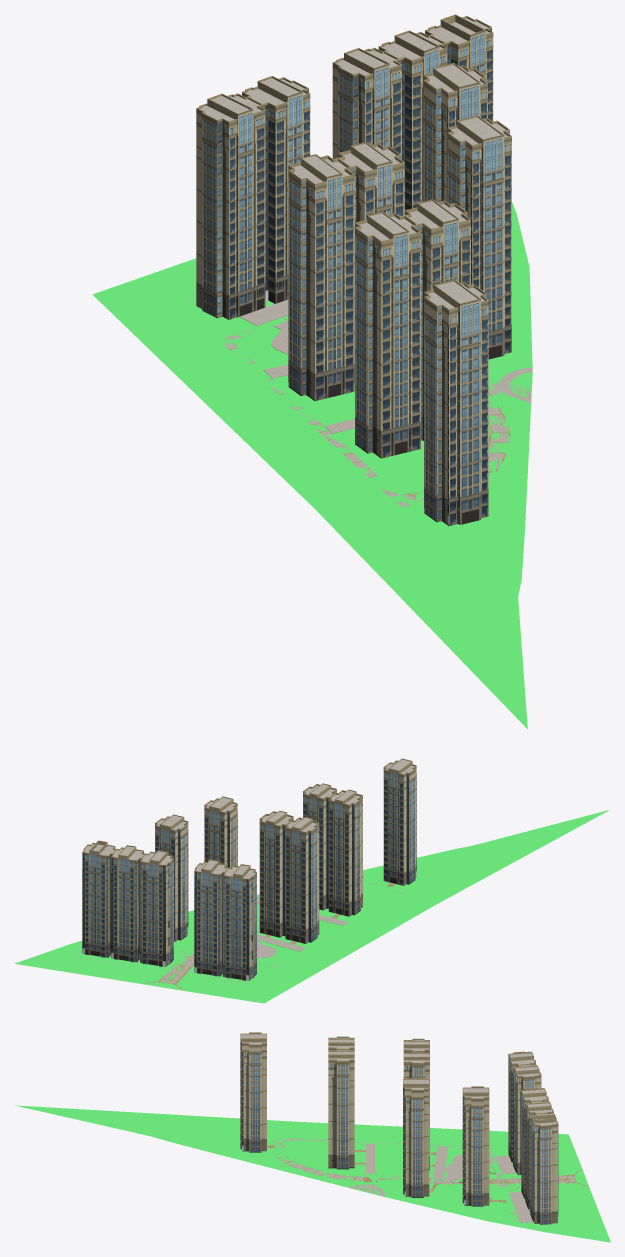
File: rencaigongyu.FBX
3 renders of one model, top to bottom at view 1: azimuth 30°, elevation 25°; view 2: azimuth 150°, elevation 25°; view 3: azimuth 270°, elevation 25°, orthographic. The views are drawn at different scales.
Visible parts, largest first — view 1: Model001_003, Line019, Line058, Line055, Line006, Line054, Line011, Line060, Line012, Line059, Line057, Line056 (+1 smaller); view 2: Model001_003, Line019, Line058, Line055, Line060, Line006, Line056, Line011, Line061, Line059, Line012, Line054 (+1 smaller); view 3: Model001_003, Line012, Line057, Line054, Line055, Line061, Line011, Line059, Line006, Line056, Line060, Line019 (+1 smaller).
Part boxes in pixels (left/top/right/bottom): Model001_003: left=92, top=202, right=532, bottom=729; Line019: left=288, top=154, right=354, bottom=400; Line058: left=355, top=211, right=420, bottom=458; Line055: left=424, top=279, right=488, bottom=525; Line006: left=196, top=93, right=265, bottom=319; Line054: left=447, top=115, right=511, bottom=359; Line011: left=242, top=76, right=310, bottom=303; Line060: left=332, top=47, right=401, bottom=160; Line012: left=423, top=63, right=487, bottom=202; Line059: left=378, top=30, right=447, bottom=214; Line057: left=405, top=199, right=470, bottom=440; Line056: left=338, top=142, right=404, bottom=382; Model001_003: left=14, top=810, right=609, bottom=1003; Line019: left=285, top=817, right=319, bottom=943; Line058: left=328, top=789, right=362, bottom=916; Line055: left=383, top=758, right=416, bottom=885; Line060: left=140, top=850, right=173, bottom=966; Line006: left=223, top=864, right=256, bottom=980; Line056: left=259, top=810, right=293, bottom=937; Line011: left=194, top=859, right=227, bottom=976; Line061: left=82, top=840, right=115, bottom=957; Line059: left=111, top=845, right=144, bottom=962; Line012: left=155, top=814, right=188, bottom=941; Line054: left=204, top=796, right=237, bottom=867; Model001_003: left=15, top=1105, right=610, bottom=1242; Line012: left=462, top=1086, right=489, bottom=1206; Line057: left=328, top=1048, right=354, bottom=1169; Line054: left=403, top=1077, right=429, bottom=1197; Line055: left=240, top=1032, right=266, bottom=1152; Line061: left=530, top=1112, right=558, bottom=1224; Line011: left=513, top=1064, right=541, bottom=1174; Line059: left=525, top=1100, right=553, bottom=1211; Line006: left=508, top=1051, right=535, bottom=1162; Line056: left=403, top=1051, right=429, bottom=1170; Line060: left=521, top=1088, right=548, bottom=1198; Line019: left=403, top=1038, right=429, bottom=1052.
Size of the model in its own units: 19809 by 7440 by 36409.
